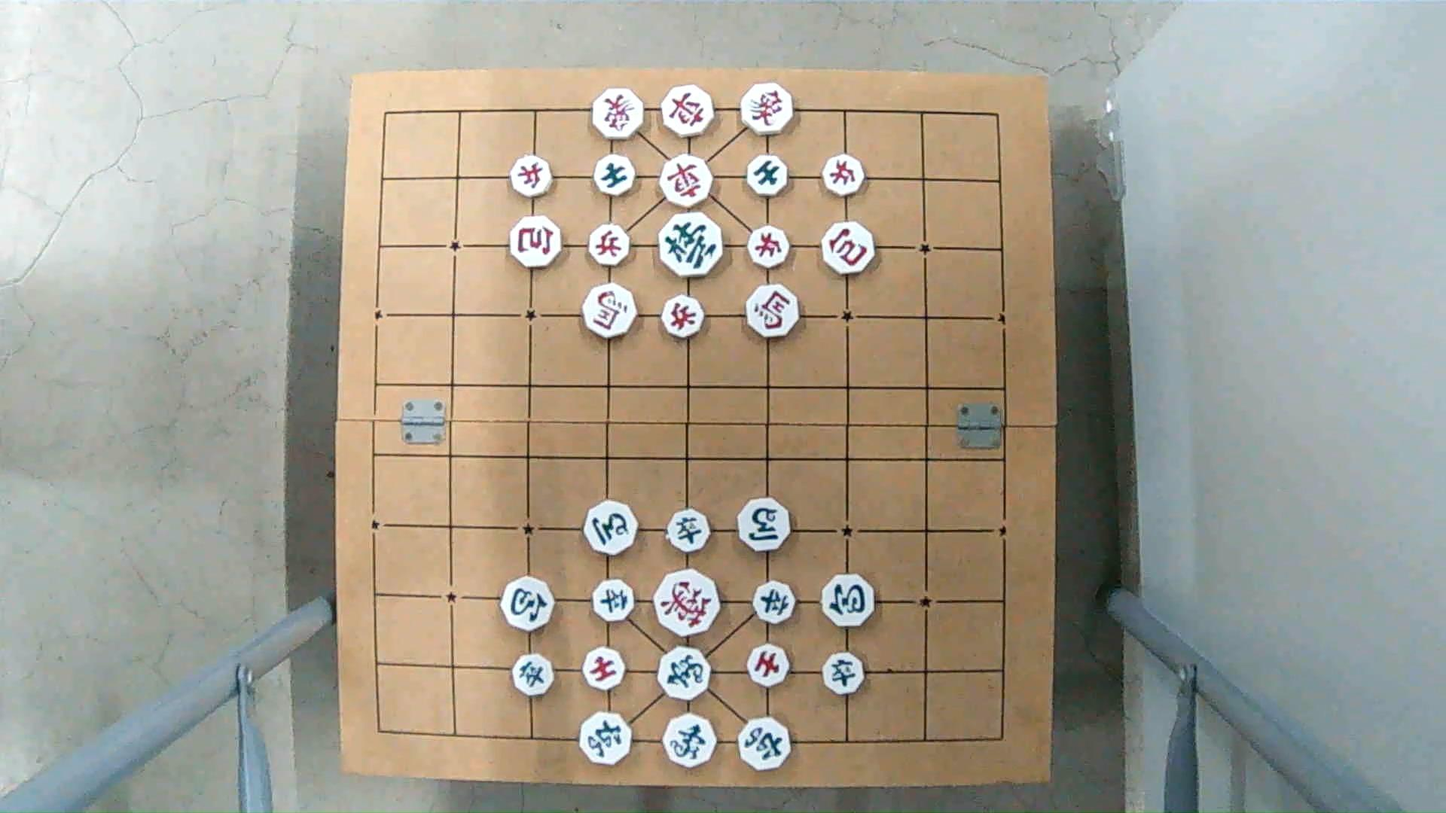cha_green: (736, 716, 792, 770), (580, 717, 633, 766)
cha_red: (659, 155, 714, 205), (660, 86, 713, 137)
jol_green: (755, 577, 799, 626), (664, 510, 712, 551), (824, 654, 867, 695), (593, 582, 636, 623), (514, 656, 558, 696)
jol_red: (588, 223, 631, 265), (747, 228, 792, 268), (663, 298, 706, 338), (821, 158, 865, 196), (511, 159, 556, 196)
ma_green: (584, 503, 640, 553), (737, 500, 792, 550)
ma_red: (581, 282, 637, 341), (746, 286, 801, 336)
po_green: (820, 573, 878, 629), (501, 579, 557, 629)
po_red: (820, 225, 876, 273), (508, 218, 562, 267)
sa_green: (595, 156, 638, 196), (746, 155, 789, 194)
sa_red: (581, 650, 627, 690), (749, 644, 795, 684)
sang_green: (665, 714, 720, 766), (660, 648, 714, 700)
sang_red: (739, 84, 795, 133), (589, 90, 644, 139)
wang_green: (660, 212, 724, 277)
wang_red: (654, 568, 721, 635)
